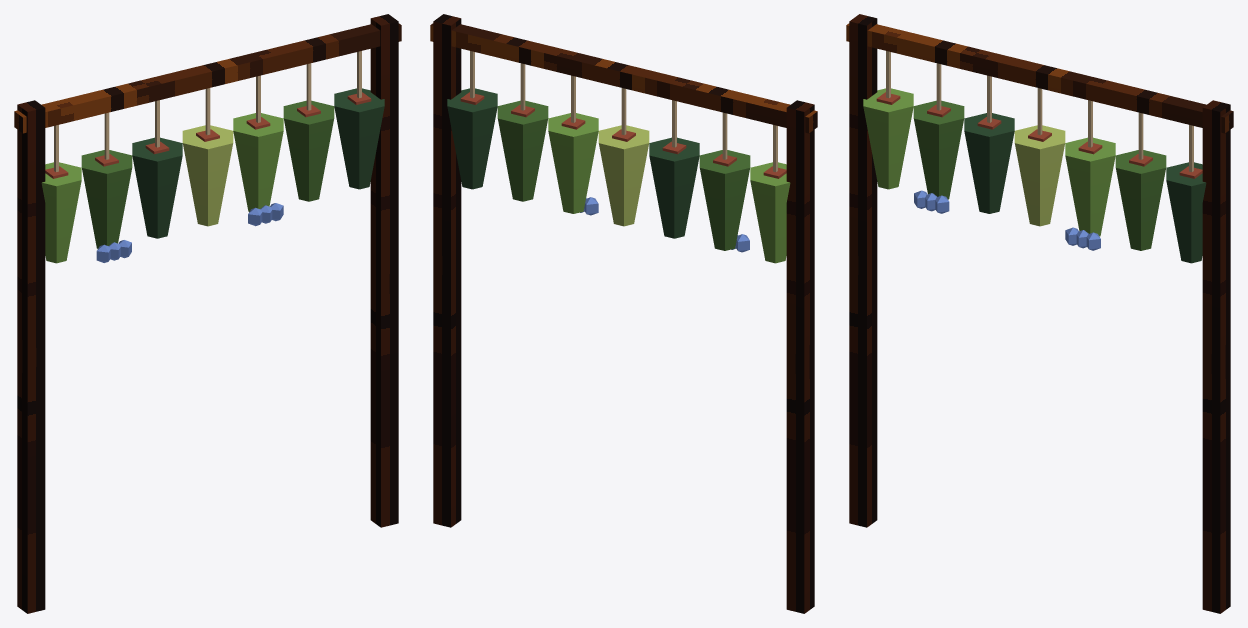
The model's file is herb_rack.glb.
3 renders of one model, left to right at view 1: azimuth 30°, elevation 25°; view 2: azimuth 150°, elevation 25°; view 3: azimuth 330°, elevation 25°, orthographic.
Parts seen in each view (by area): view 1: herb_rack; view 2: herb_rack; view 3: herb_rack.
Boxes of the visible parts, left/top/right/bottom form: herb_rack: left=14, top=14, right=401, bottom=613; herb_rack: left=430, top=14, right=817, bottom=613; herb_rack: left=846, top=14, right=1233, bottom=613.
Size of the model in its own units: 1.5 by 1.9 by 0.1732.
Materials: 2 (1 with a texture image).
